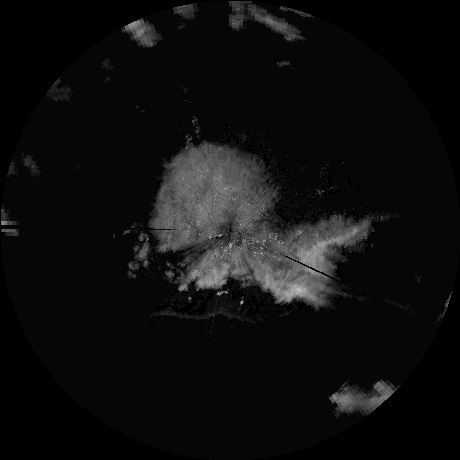frontgust: (155, 305, 255, 321)
